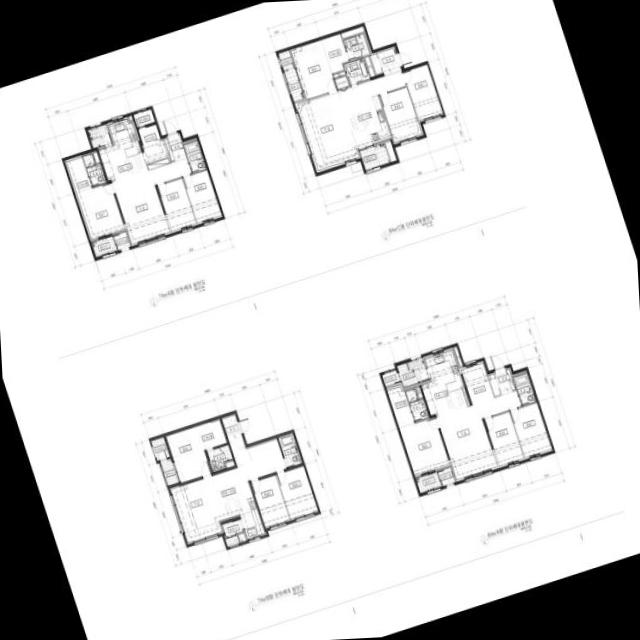background: (0, 0, 640, 640)
space_balconi: (396, 357, 429, 387), (359, 143, 390, 169), (284, 68, 304, 101), (92, 236, 117, 256), (160, 458, 178, 485), (222, 519, 243, 537)
space_bedroom: (76, 182, 125, 239), (291, 40, 337, 99), (165, 426, 211, 482), (379, 87, 422, 142), (510, 402, 552, 457), (403, 64, 443, 120), (276, 466, 317, 519), (484, 412, 523, 466), (250, 475, 289, 527)
space_dressroom: (320, 33, 349, 73), (387, 386, 414, 427), (196, 418, 227, 450), (66, 156, 92, 192)
space_front: (377, 47, 403, 75), (221, 414, 242, 443), (495, 367, 516, 394), (167, 132, 186, 161)
space_kitchen: (421, 349, 470, 416), (210, 480, 265, 538), (98, 119, 148, 181), (343, 95, 391, 148)
space_living_room: (171, 438, 286, 542), (297, 71, 406, 170), (437, 390, 521, 479), (112, 158, 191, 244)
space_multipurpose_space: (399, 417, 449, 475), (157, 178, 196, 230), (182, 170, 221, 222)
space_other: (152, 95, 197, 138), (461, 363, 494, 404), (138, 124, 167, 163), (87, 124, 112, 148), (416, 472, 441, 492), (151, 437, 170, 460), (133, 109, 154, 127), (278, 50, 294, 70), (382, 370, 400, 386), (341, 26, 364, 38), (147, 158, 170, 169), (488, 374, 500, 395), (371, 53, 382, 74), (364, 56, 375, 77), (385, 141, 396, 162), (164, 138, 174, 161), (335, 75, 349, 89), (454, 346, 462, 366), (225, 535, 239, 546), (415, 386, 423, 398), (93, 152, 100, 163), (333, 71, 345, 77), (238, 533, 246, 542)
space_outdoor_room: (437, 467, 455, 486), (113, 231, 130, 250)
space_toilet: (278, 433, 302, 467), (405, 388, 429, 421), (513, 372, 536, 405), (207, 444, 234, 472), (83, 154, 106, 186), (183, 140, 206, 172), (343, 33, 370, 60), (343, 58, 370, 84)
